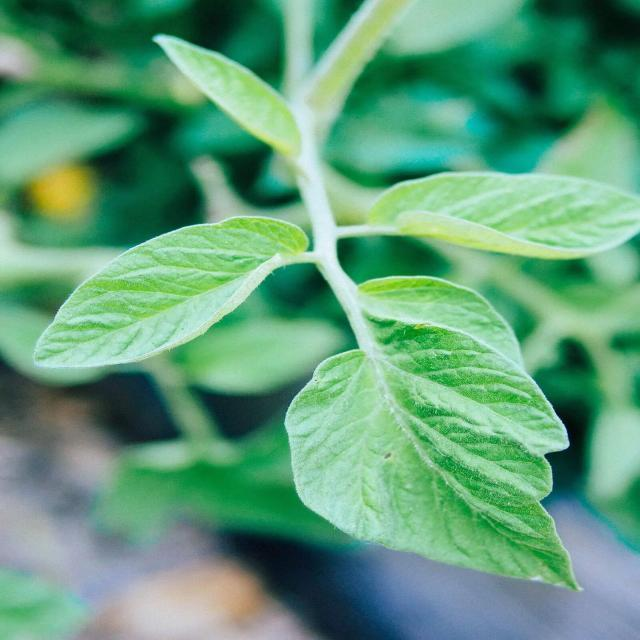Healthy Leaf: (263, 273, 590, 592), (35, 209, 308, 397), (360, 161, 640, 253), (154, 31, 308, 167)
